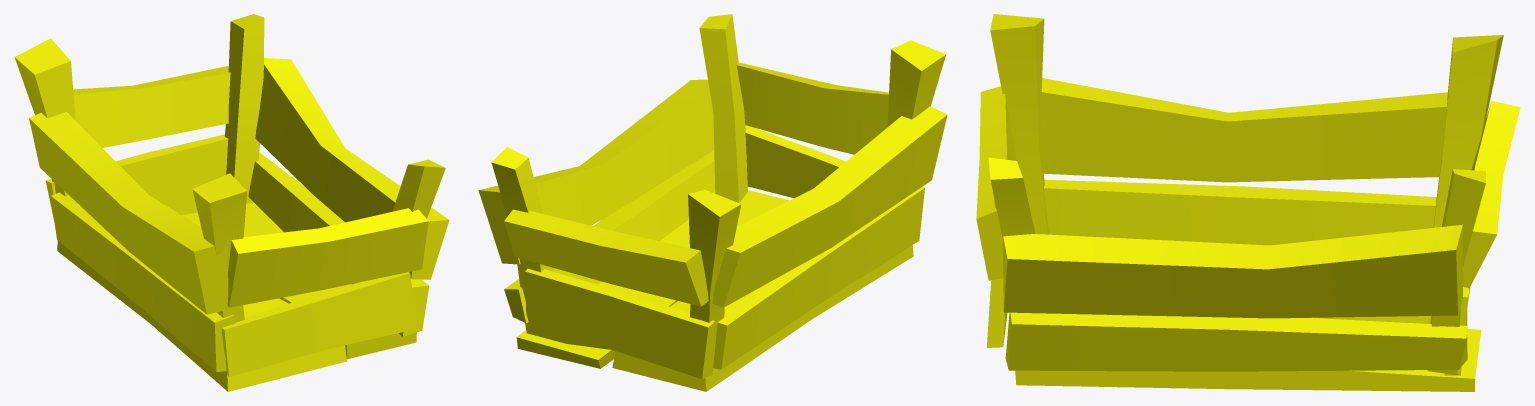
The model's file is SM_PROP_crate_01.glb.
The picture shows the model from 3 angles, left to right: view 1: azimuth 30°, elevation 25°; view 2: azimuth 150°, elevation 25°; view 3: azimuth 270°, elevation 25°; orthographic projection. The views are drawn at different scales.
Parts seen in each view (by area): view 1: SM_PROP_crate_01; view 2: SM_PROP_crate_01; view 3: SM_PROP_crate_01.
Part boxes in pixels (x1,y1,x2,y2): SM_PROP_crate_01: [14, 14, 449, 391]; SM_PROP_crate_01: [478, 14, 947, 391]; SM_PROP_crate_01: [976, 14, 1520, 391].
Bounding box in the file's own units: 0.645 × 0.4619 × 0.8913.
1 material, 1 textured.
